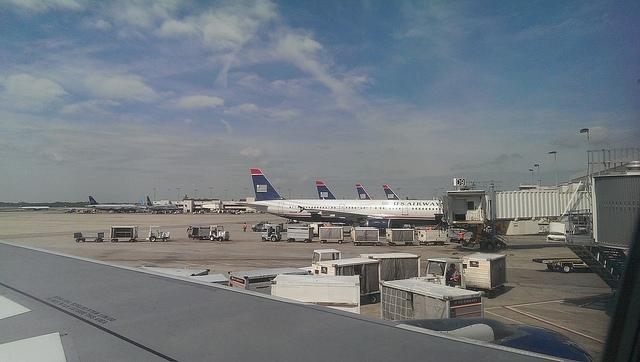truck: (409, 253, 507, 299), (301, 249, 342, 275), (111, 226, 170, 244), (260, 226, 314, 244), (532, 258, 594, 272), (187, 224, 230, 242), (354, 228, 381, 246), (74, 232, 105, 242), (252, 222, 265, 232)
